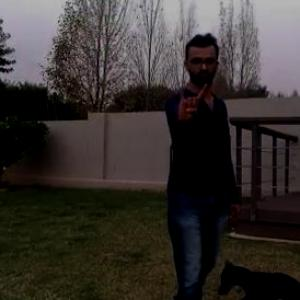takeoff-hand: (169, 74, 209, 126)
